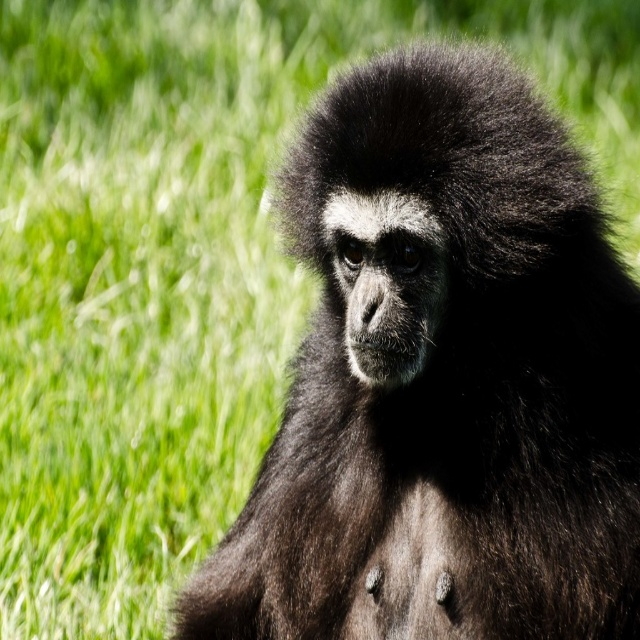Monkey: (158, 22, 640, 640)
